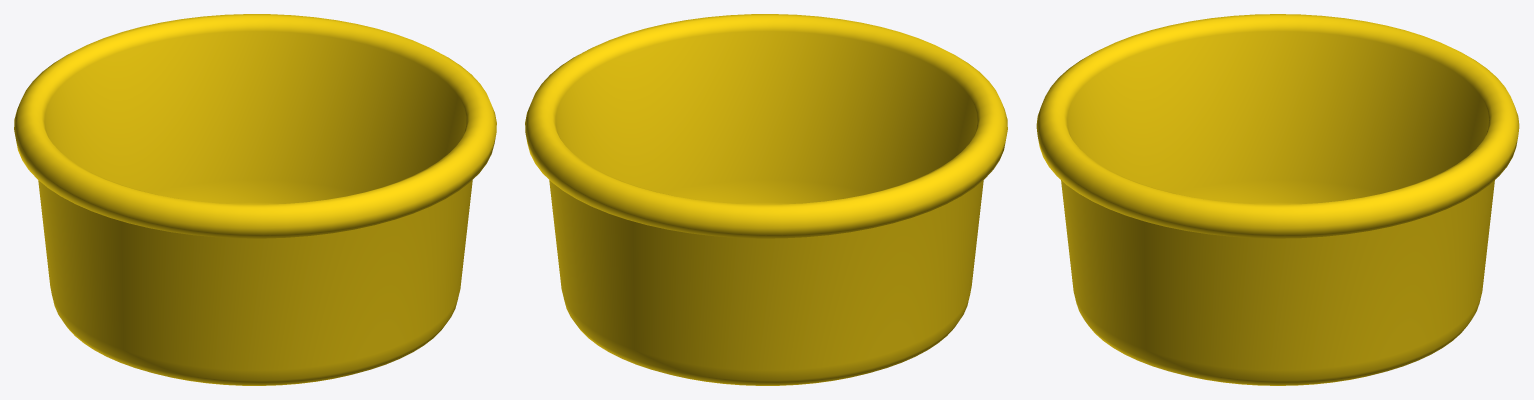
The model's file is wash_basin.glb.
3 renders of one model, left to right at view 1: azimuth 30°, elevation 25°; view 2: azimuth 150°, elevation 25°; view 3: azimuth 270°, elevation 25°, orthographic.
Visible parts, largest first — view 1: wash_basin; view 2: wash_basin; view 3: wash_basin.
Part boxes in pixels (box(x1,y1,x2,y2)): wash_basin: box(14, 14, 496, 385); wash_basin: box(525, 14, 1007, 385); wash_basin: box(1036, 14, 1519, 385).
Size of the model in its own units: 0.2 by 0.0905 by 0.2.
